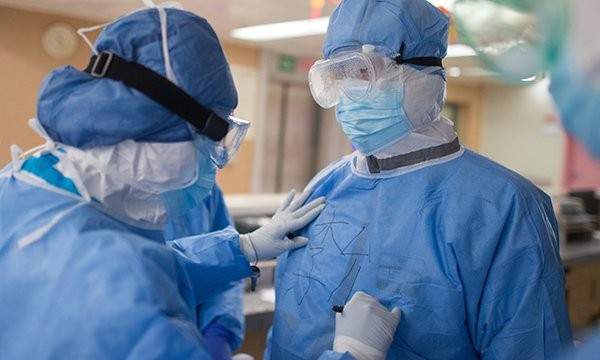Coverall: (272, 1, 574, 360), (1, 2, 251, 360)
Gloves: (240, 189, 332, 269), (327, 288, 409, 354)
Goggles: (300, 44, 398, 109)
with_mask: (335, 66, 413, 152)
